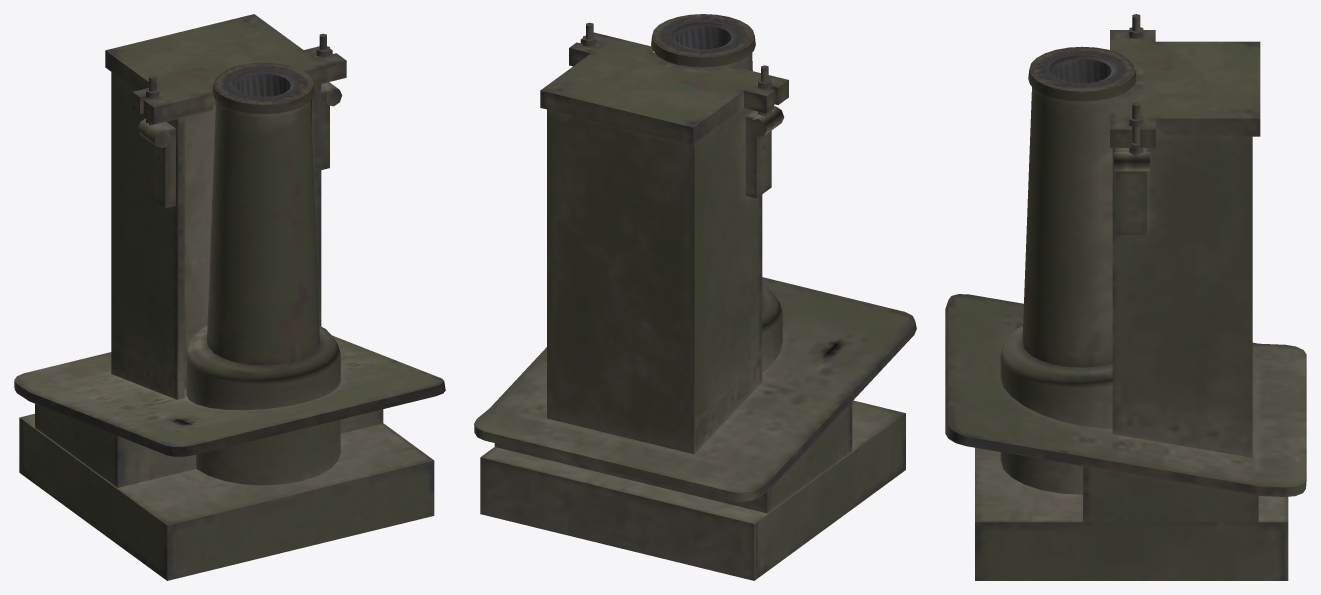
Rendered from Gun_01.glb.
3 views of the same model, side by side, from view 1: azimuth 30°, elevation 25°; view 2: azimuth 150°, elevation 25°; view 3: azimuth 270°, elevation 25° (orthographic). The views are drawn at different scales.
Visible parts, largest first — view 1: set_0_group_0; view 2: set_0_group_0; view 3: set_0_group_0.
Part boxes in pixels (box(x1,y1,x2,y2)): set_0_group_0: box(14, 14, 445, 580); set_0_group_0: box(474, 14, 916, 580); set_0_group_0: box(945, 14, 1306, 580).
Size of the model in its own units: 0.4359 by 0.654 by 0.4668.
Materials: 1 (1 with a texture image).
